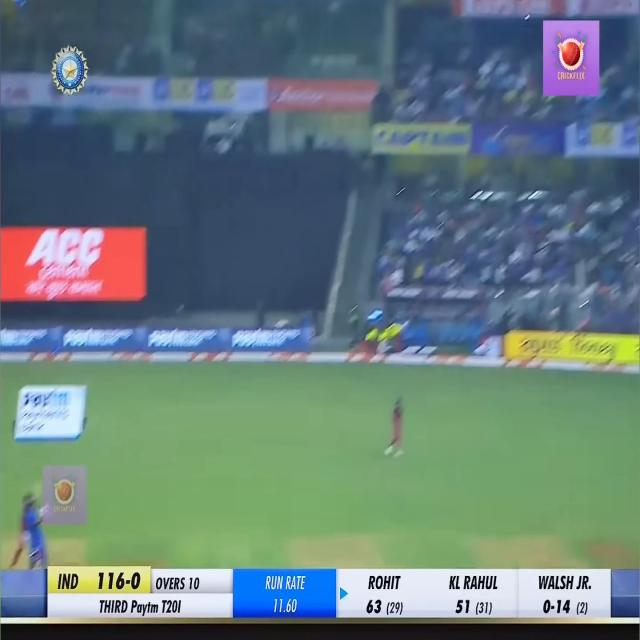fully_visible: (129, 591, 159, 619)
partially_visible: (22, 377, 69, 412)
